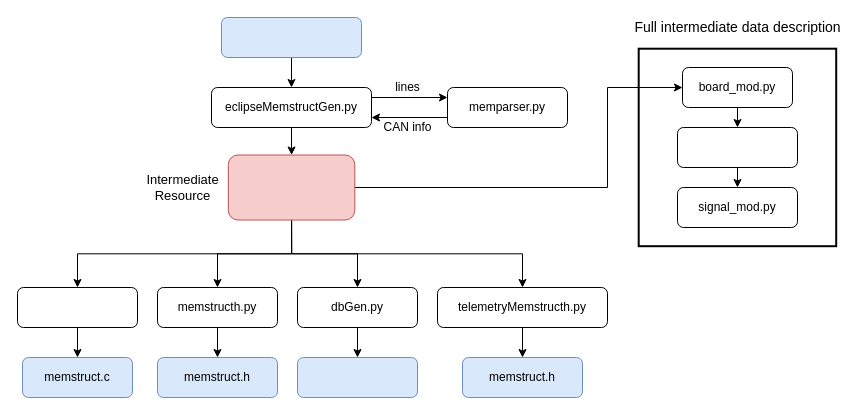
The diagram is 865 pixels wide and 415 high, and some of its shapes have lost their labels. The centre of each missing label's shape, as x and y in pixels:
"board_list (Stores all CAN data loaded from file)" goes at pixel 291 187.
"CAN_DB_E10.dbc" goes at pixel 357 377.
"memstruct_entry.txt" goes at pixel 291 37.
"memstructc.py" goes at pixel 77 307.
"message_mod.py" goes at pixel 737 147.
